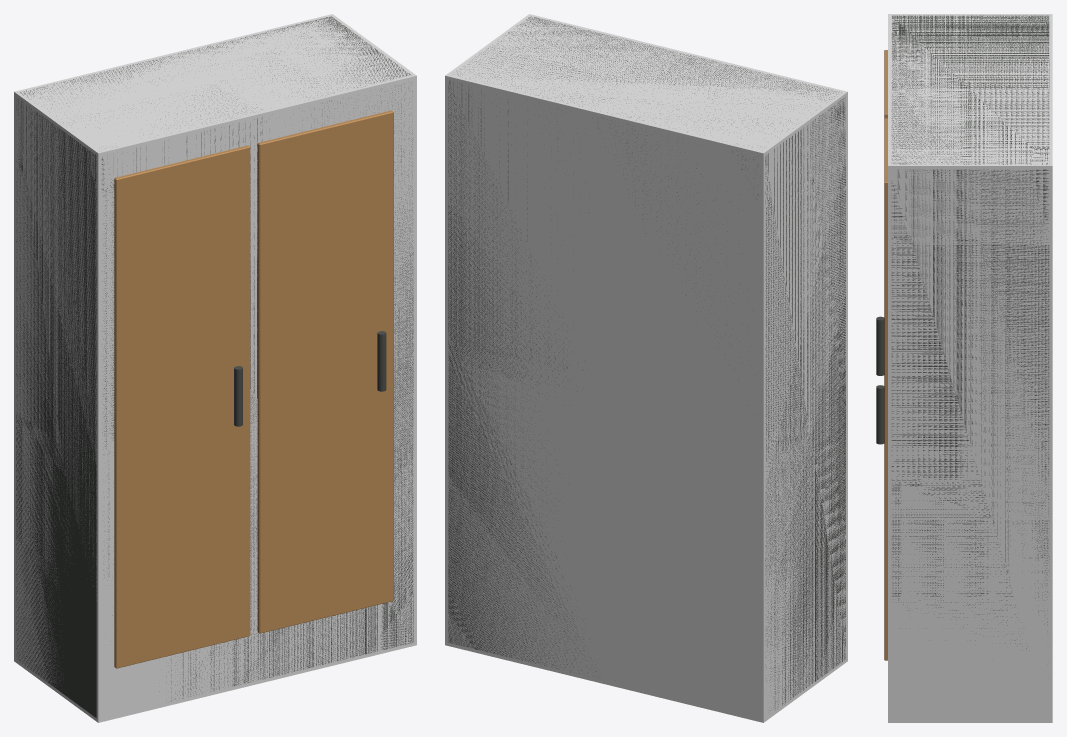
The model's file is member-locker_commercial.glb.
3 views of the same model, side by side, from view 1: azimuth 30°, elevation 25°; view 2: azimuth 150°, elevation 25°; view 3: azimuth 270°, elevation 25° (orthographic). The views are drawn at different scales.
Visible parts, largest first — view 1: COL_member-locker, MESH_Door_02, MESH_Door_01, MESH_CabinetCarcass; view 2: COL_member-locker, MESH_CabinetCarcass; view 3: COL_member-locker, MESH_CabinetCarcass, MESH_Door_02, MESH_Handle.001, MESH_Handle.
Part boxes in pixels (x1,y1,x2,y2): COL_member-locker: (14, 14, 416, 722); MESH_Door_02: (257, 110, 393, 633); MESH_Door_01: (114, 145, 250, 668); MESH_CabinetCarcass: (16, 16, 413, 717); COL_member-locker: (445, 14, 847, 722); MESH_CabinetCarcass: (448, 16, 845, 710); COL_member-locker: (888, 14, 1052, 722); MESH_CabinetCarcass: (891, 15, 1049, 648); MESH_Door_02: (884, 118, 887, 660); MESH_Handle.001: (876, 385, 884, 444); MESH_Handle: (876, 316, 884, 375).
Size of the model in its own units: 1.2 by 2.05 by 0.5891.
